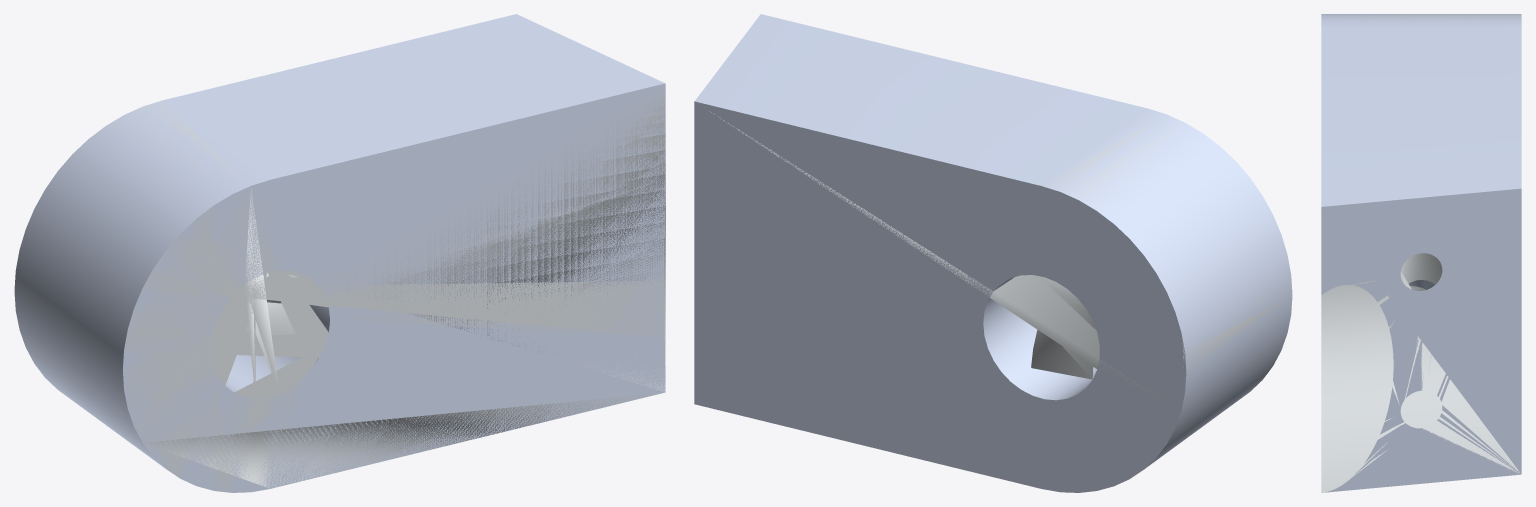
File: MirrorUA_26EV_TopSeatMounting__UA_26EV_TopSeatMounting_SeatTab_1.dae
3 views of the same model, side by side, from view 1: azimuth 30°, elevation 25°; view 2: azimuth 150°, elevation 25°; view 3: azimuth 270°, elevation 25° (orthographic). The views are drawn at different scales.
Visible parts, largest first — view 1: node0, node1; view 2: node0, node1; view 3: node0, node1.
Part boxes in pixels (x1,y1,x2,y2): node0: (14,14,665,492); node1: (14,84,665,492); node0: (694,14,1292,492); node1: (709,111,1290,424); node0: (1321,14,1521,492); node1: (1321,14,1521,492).
Size of the model in its own units: 0.0459 by 0.025 by 0.0159.
